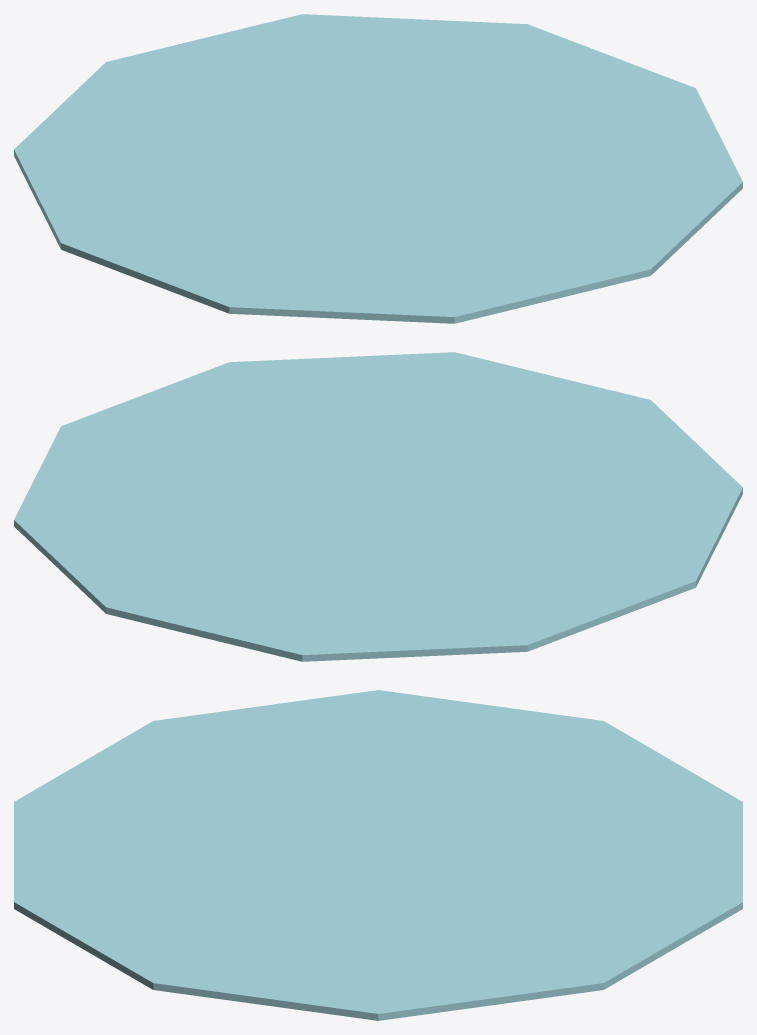
Rendered from CircleArea.fbx.
3 views of the same model, one above another, from view 1: azimuth 30°, elevation 25°; view 2: azimuth 150°, elevation 25°; view 3: azimuth 270°, elevation 25° (orthographic). The views are drawn at different scales.
Parts seen in each view (by area): view 1: pCylinder1; view 2: pCylinder1; view 3: pCylinder1.
Part boxes in pixels (left/top/right/bottom): pCylinder1: left=14, top=14, right=742, bottom=323; pCylinder1: left=14, top=352, right=742, bottom=661; pCylinder1: left=14, top=690, right=742, bottom=1020.
Size of the model in its own units: 0.02 by 0.0002 by 0.019.
